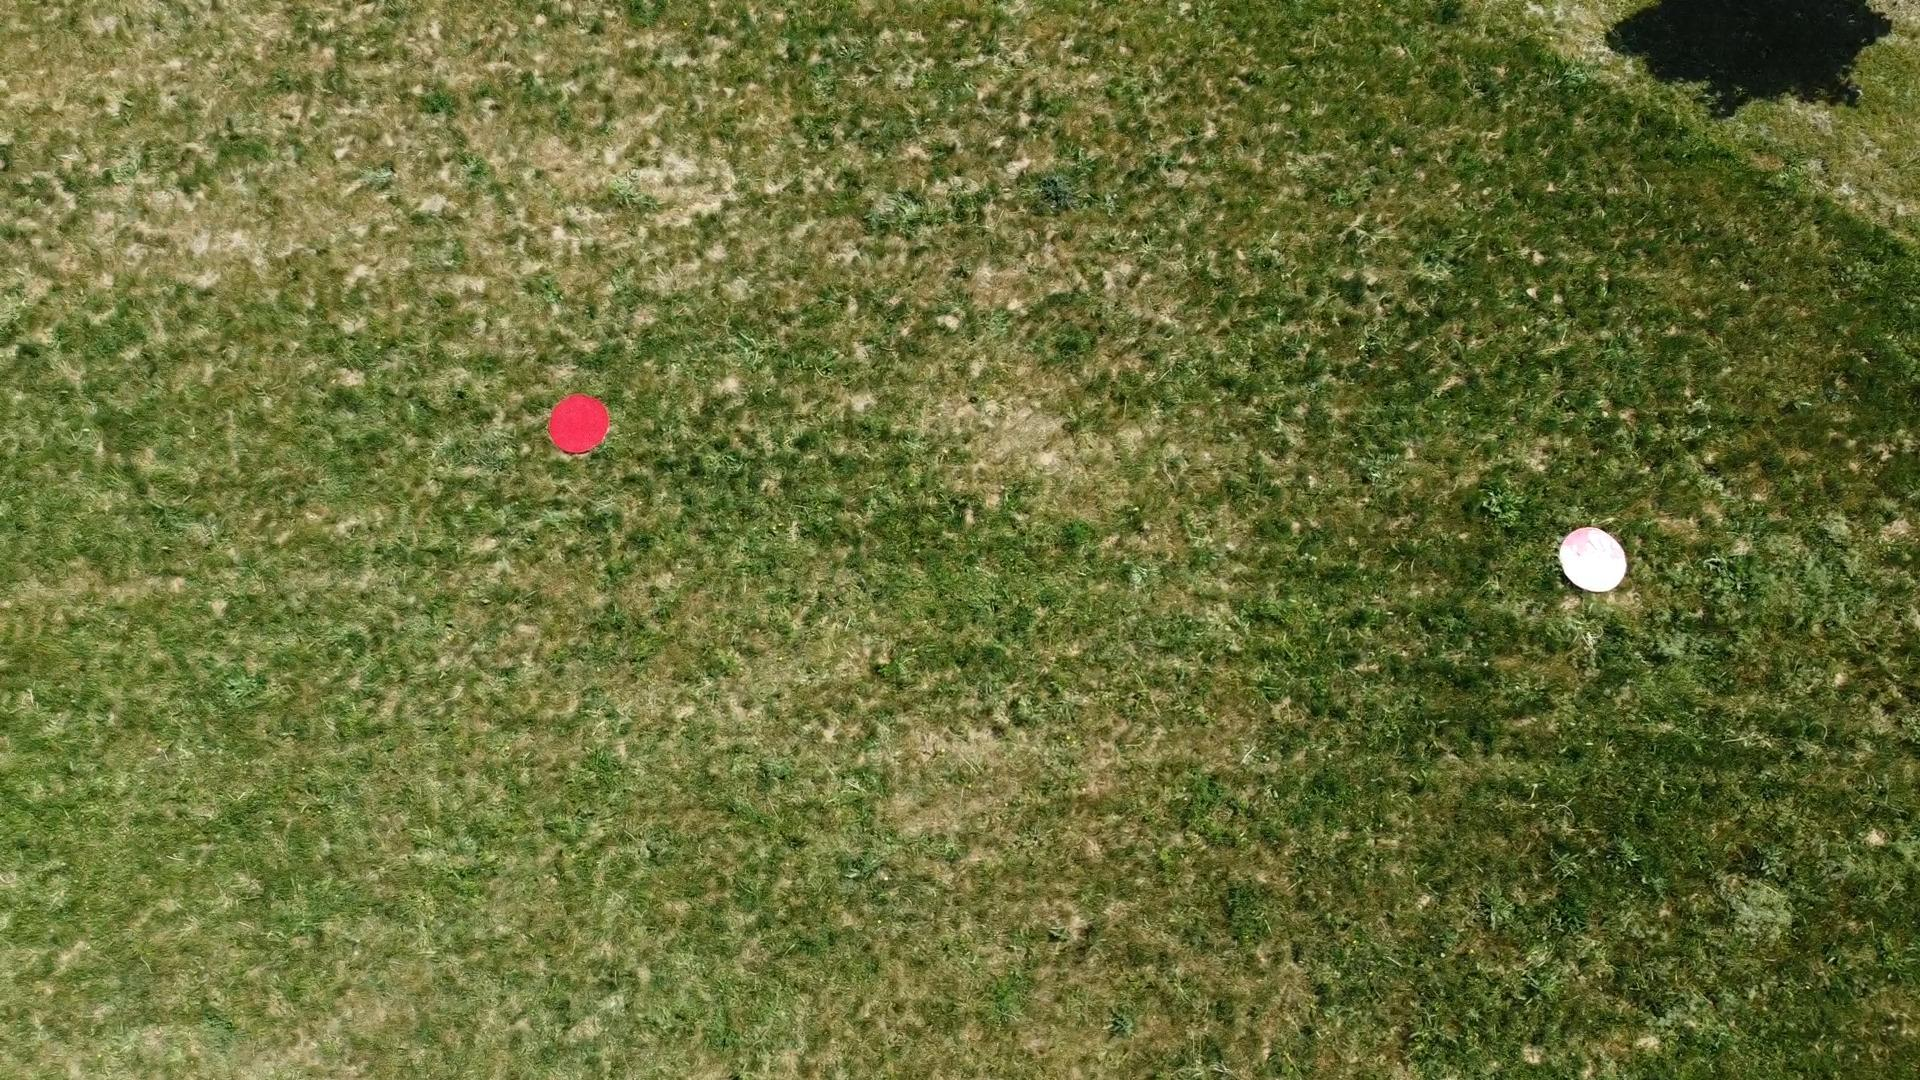Red: (1556, 524, 1630, 596), (545, 390, 612, 456)
